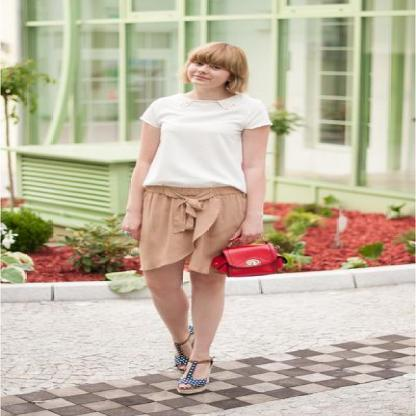bag: (212, 232, 286, 277)
shirt: (140, 92, 272, 190)
shoe: (162, 341, 218, 395)
shorts: (132, 183, 257, 279)
